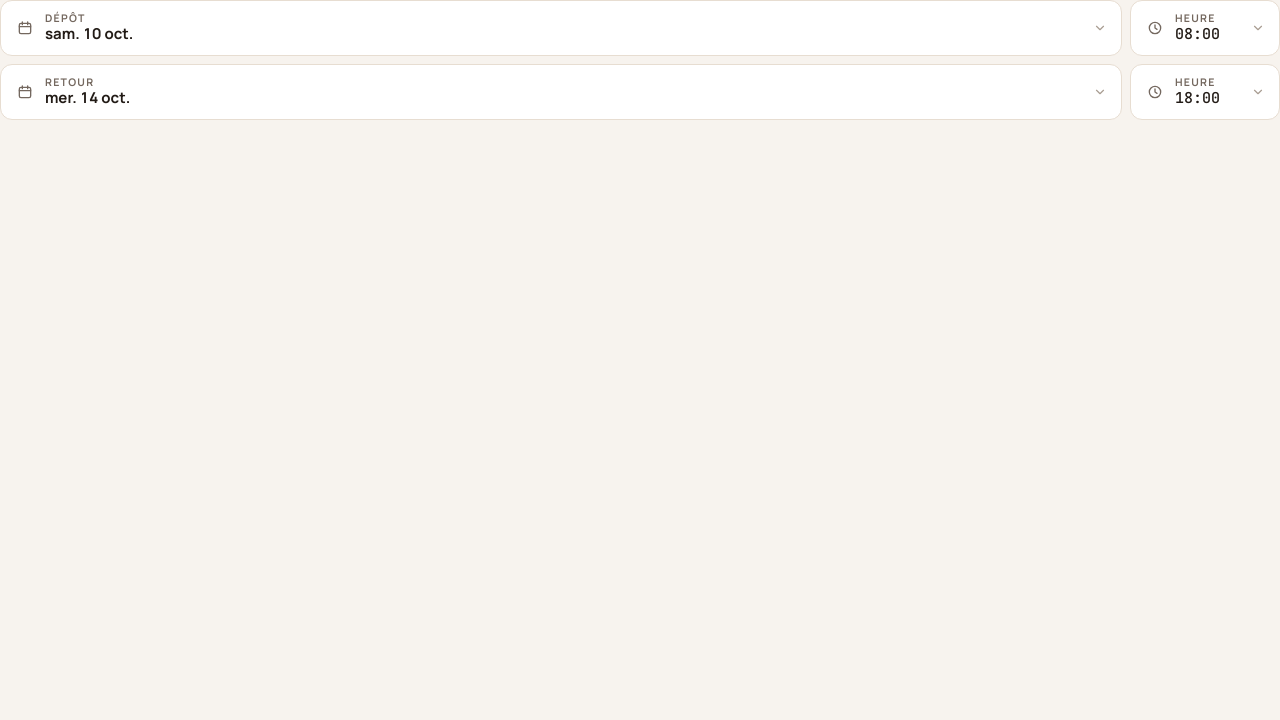
StayFields › picks a range in the popover with the mouse, then applies it
Click the button with aria-label "Date de dépôt" at (65,18), box 0,0 -> 1122,56
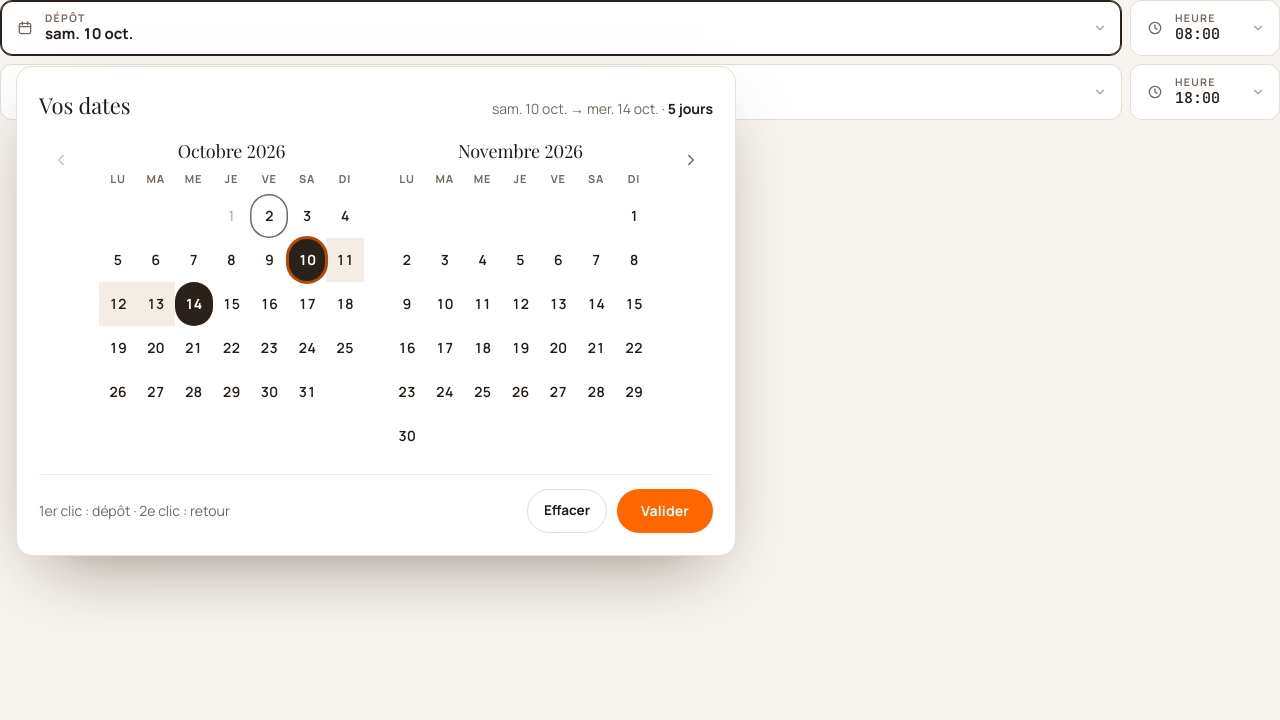
Result: the text "5 jours" is shown at 668,99 -> 713,118
Click the cell named "jeudi 1 octobre 2026" at (231,216), box 212,194 -> 250,238
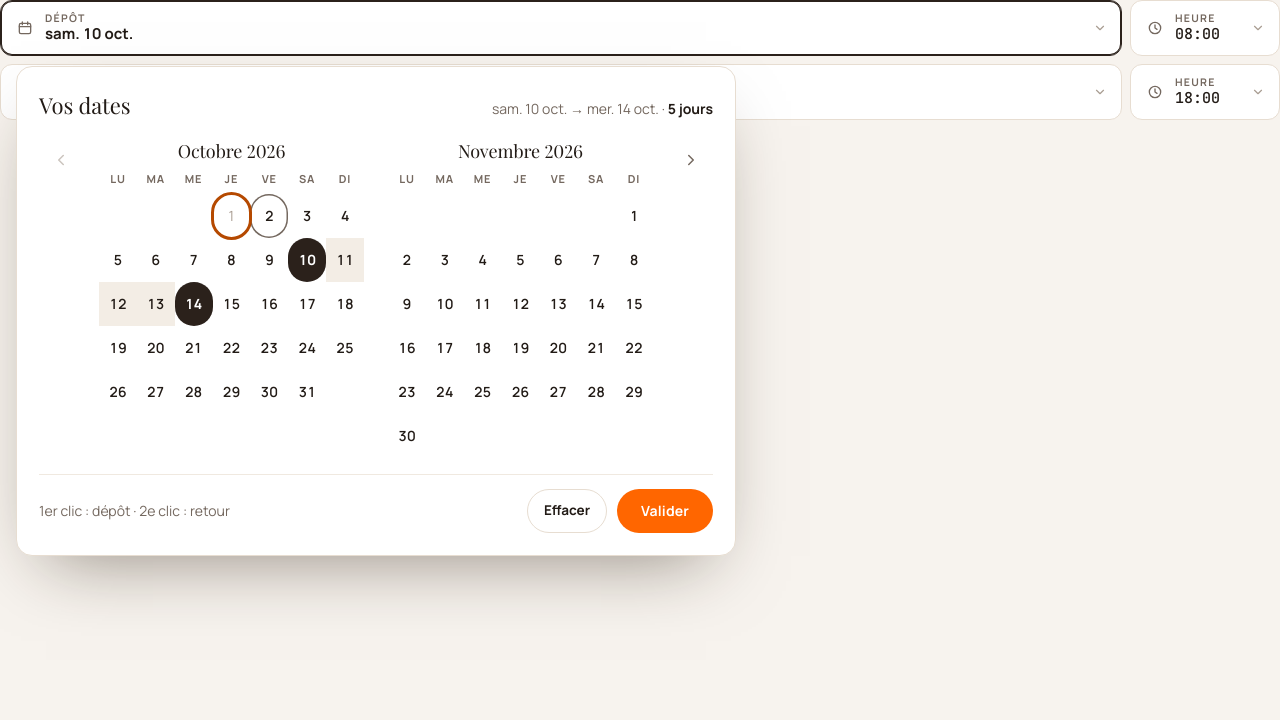
Click the cell named "lundi 12 octobre 2026" at (118,304), box 99,282 -> 137,326
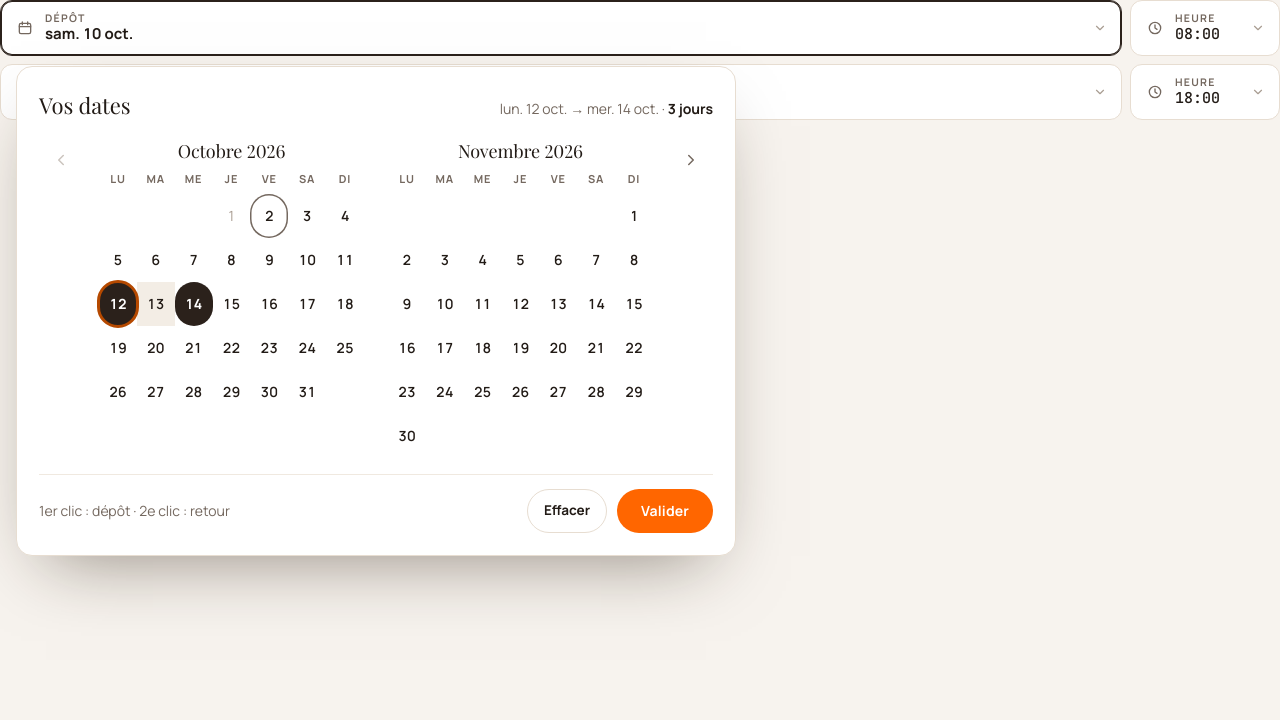
Click the cell named "vendredi 16 octobre 2026" at (269,304), box 250,282 -> 288,326
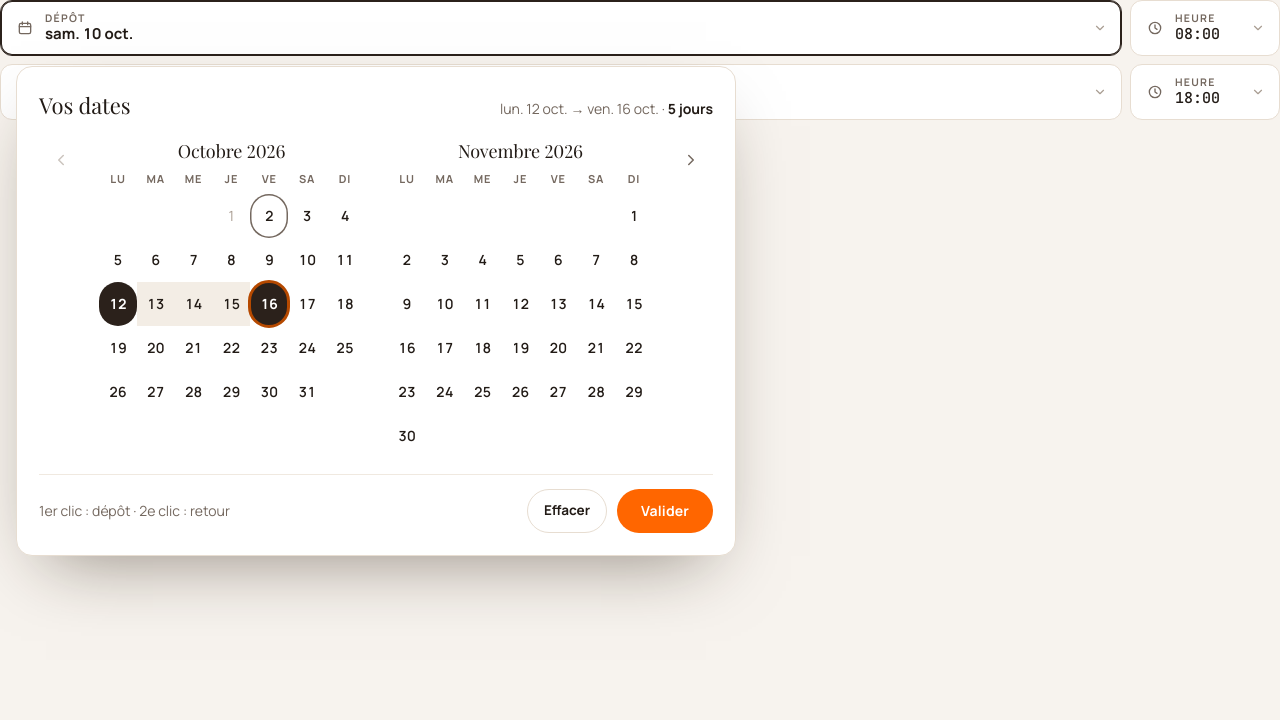
Result: the text "lun. 12 oct. → ven. 16 oct." is shown at 500,99 -> 659,118
Click the button "Valider" at (665,510), box 617,488 -> 713,532
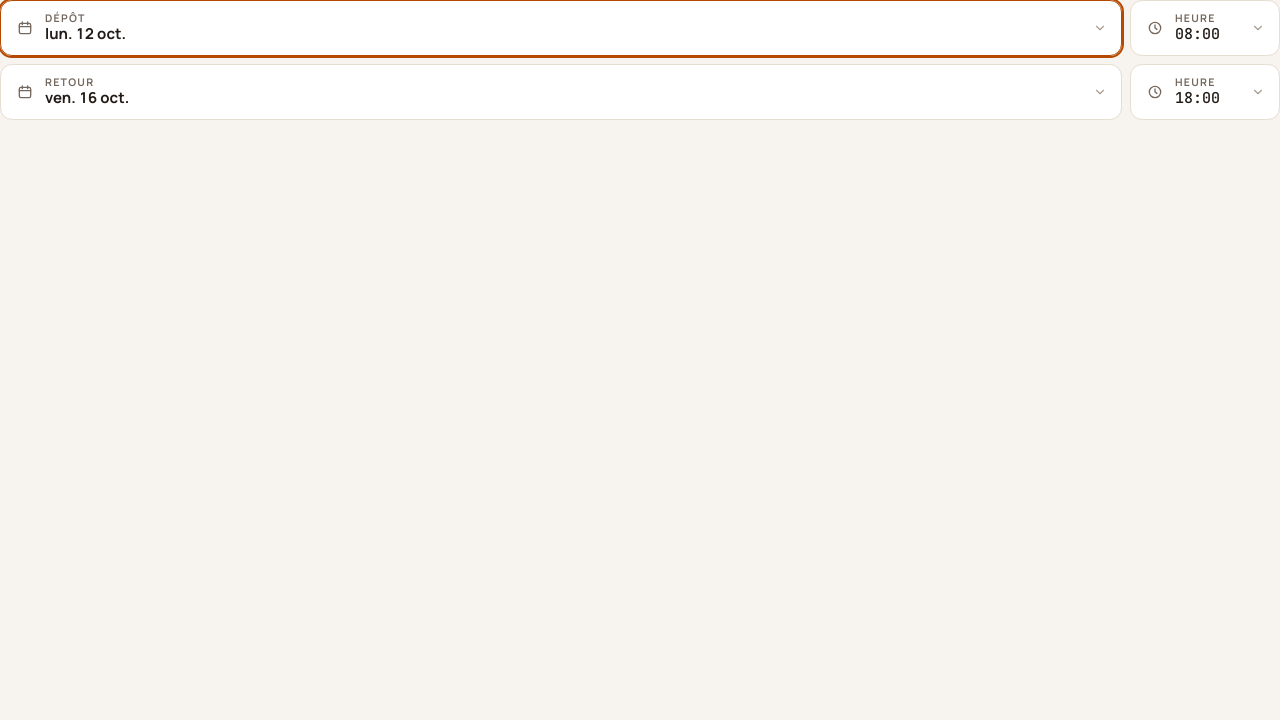
Result: the dialog is gone
